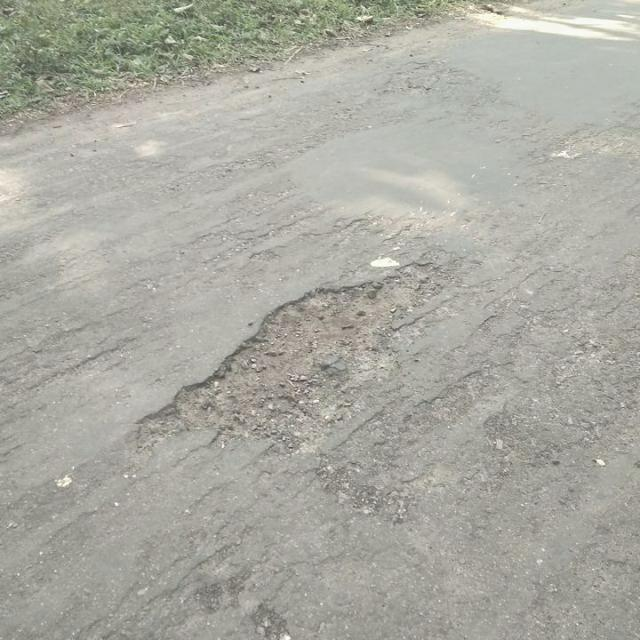Pothole: (128, 258, 452, 464)
